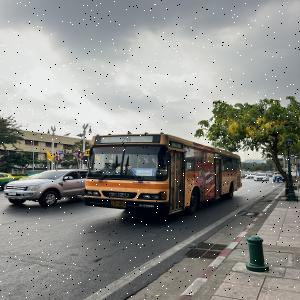BMTA-bus: (84, 133, 242, 218)
Bus Line Number: (119, 136, 136, 144), (173, 143, 180, 148)
Bus Side Number: (138, 203, 155, 209)
Destination Sign: (132, 167, 156, 177)
